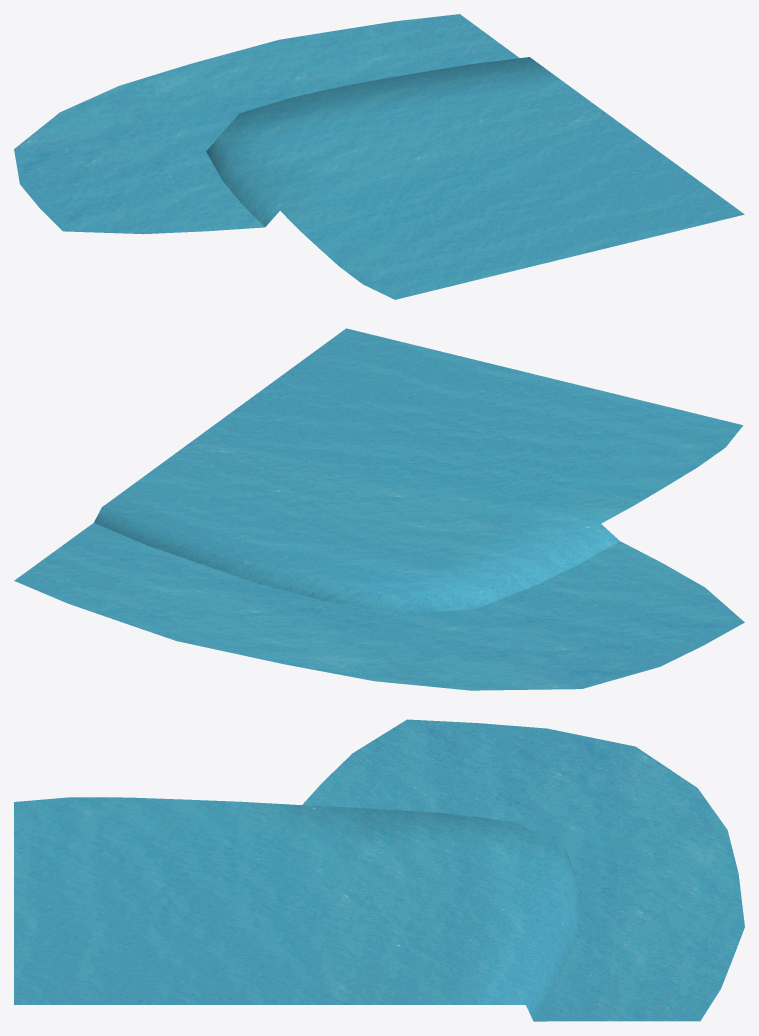
File: snow_a_n03b.fbx
The picture shows the model from 3 angles, top to bottom: view 1: azimuth 30°, elevation 25°; view 2: azimuth 150°, elevation 25°; view 3: azimuth 270°, elevation 25°; orthographic projection. The views are drawn at different scales.
Visible parts, largest first — view 1: snow_a_n03b; view 2: snow_a_n03b; view 3: snow_a_n03b.
Part boxes in pixels (box(x1,y1,x2,y2)): snow_a_n03b: box(14, 14, 744, 299); snow_a_n03b: box(14, 328, 744, 690); snow_a_n03b: box(14, 719, 744, 1021).
Bounding box in the file's own units: 5376 × 120 × 5504.
1 material, 1 textured.
